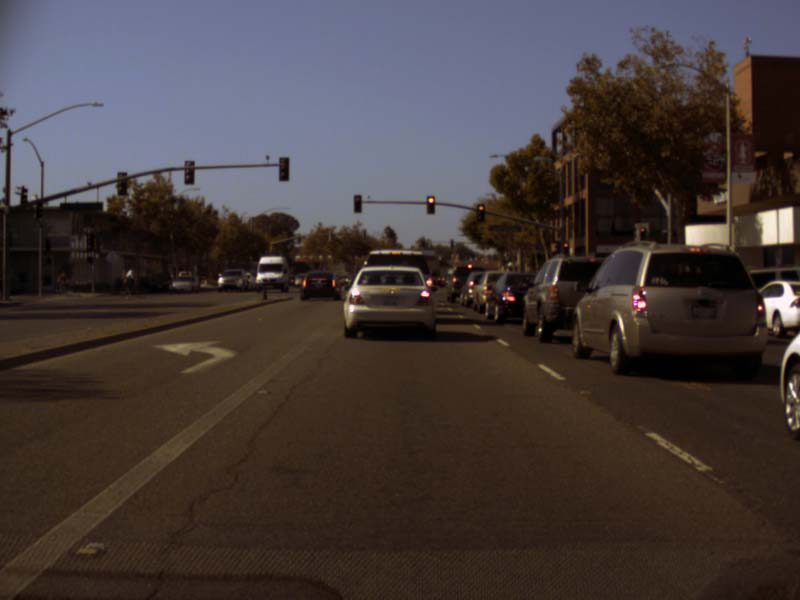Red: (426, 195, 435, 214), (353, 195, 362, 213), (477, 204, 485, 222), (639, 226, 647, 240), (562, 241, 568, 256)
